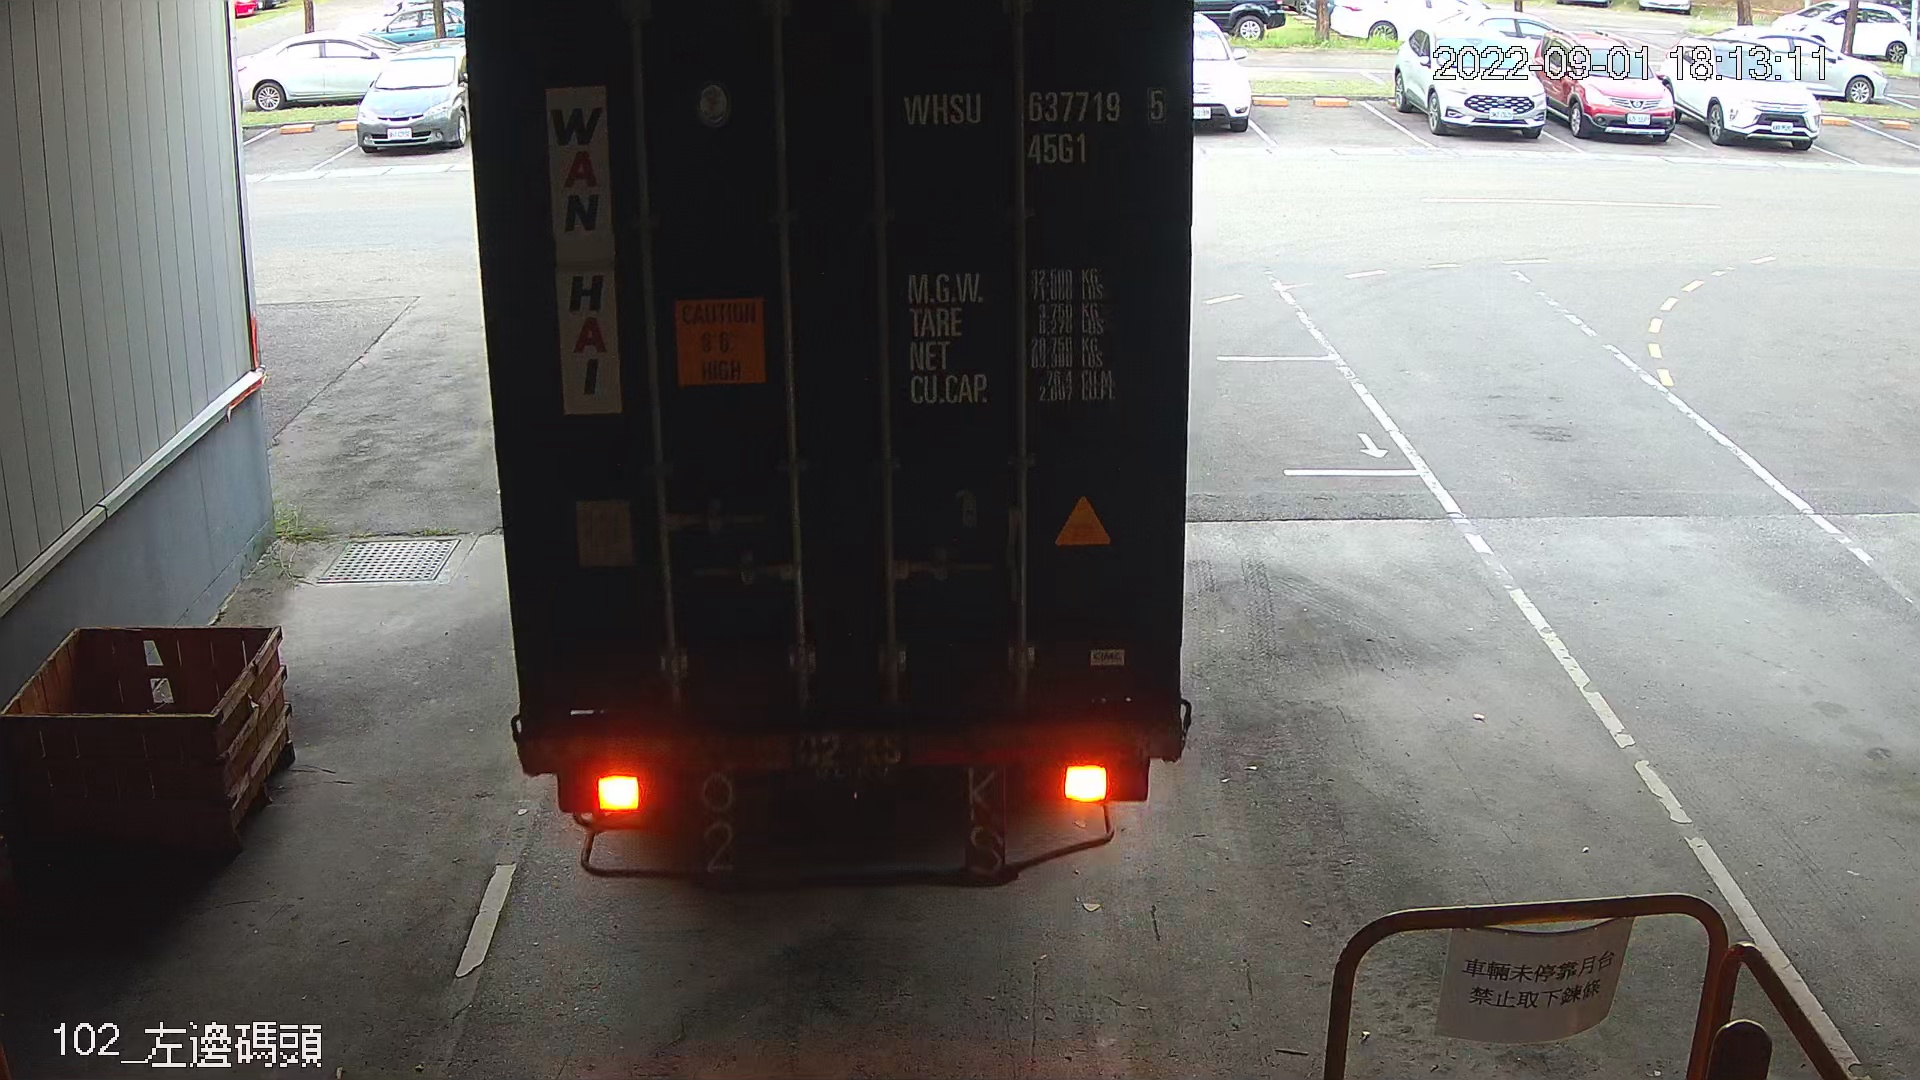container: (889, 73, 1179, 173)
